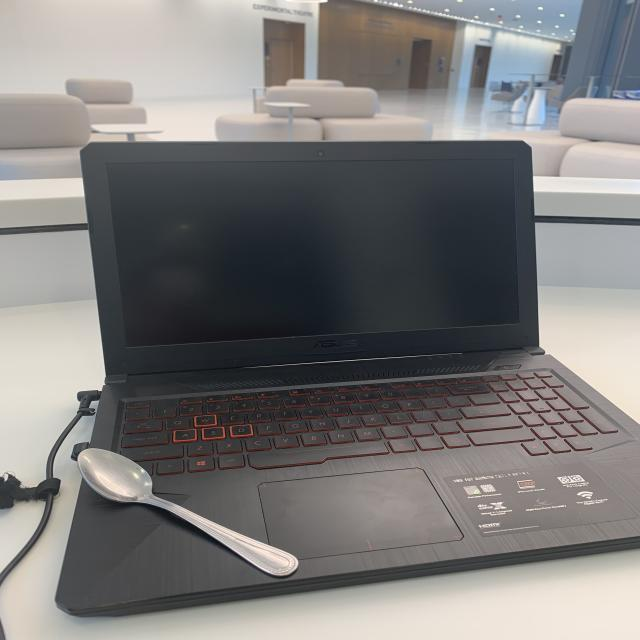Spoon: (48, 441, 309, 588)
